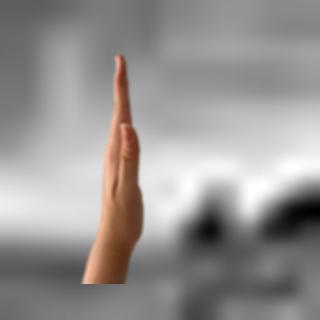Right: (91, 51, 156, 281)
